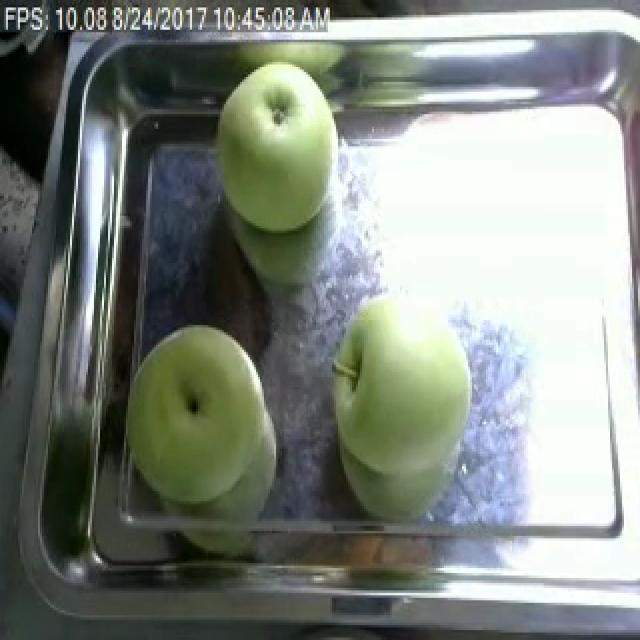50-_ripeness: (108, 315, 296, 536), (326, 278, 477, 479), (206, 54, 362, 244)
